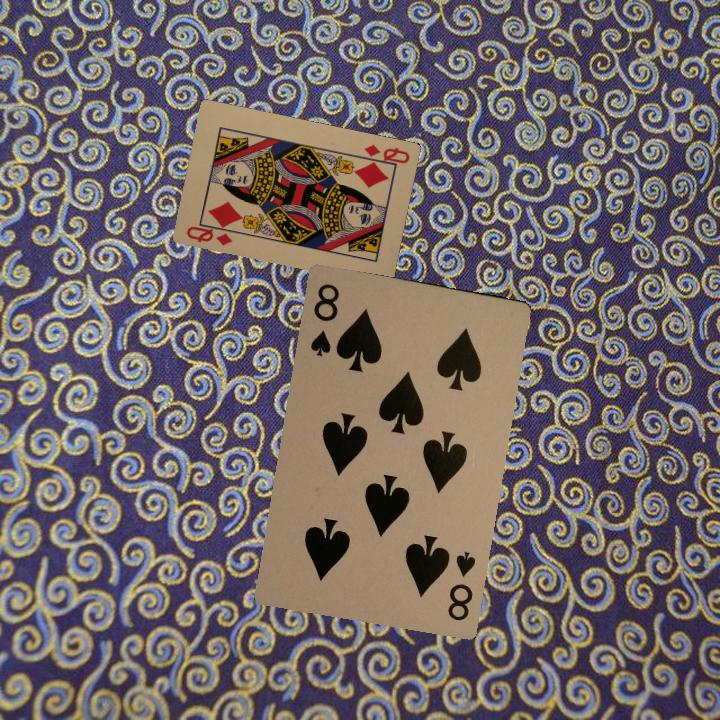8s: (306, 279, 342, 358), (443, 547, 479, 624)
Qd: (182, 217, 236, 248), (355, 140, 412, 168)
